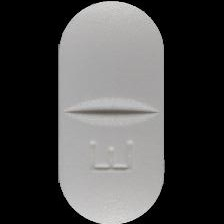43063-557: (0, 0, 224, 224)
